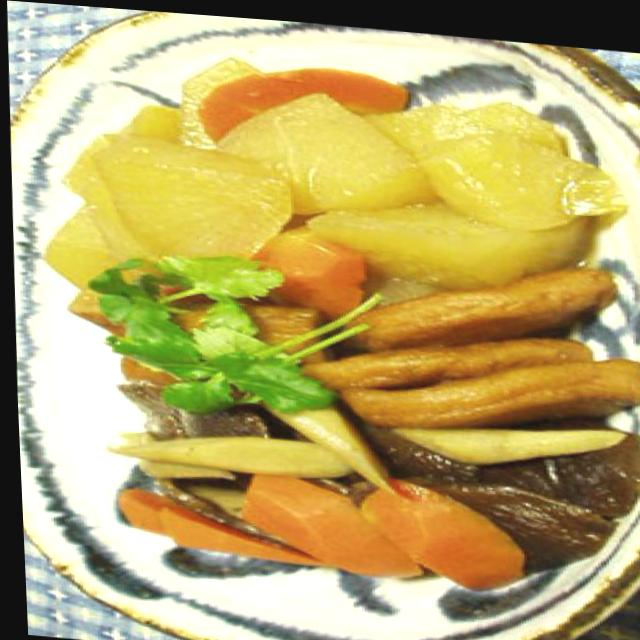鸡肉料理 含炸鸡: (53, 54, 620, 577)
